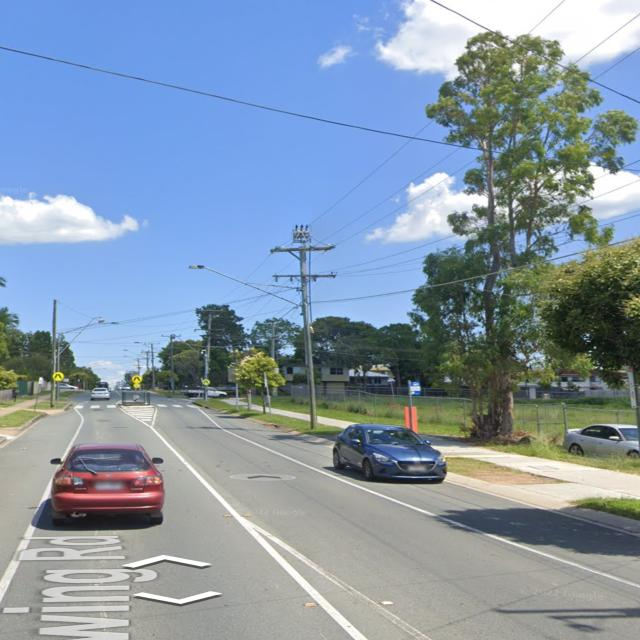HV-switch: (292, 224, 311, 244)
HV-transmission: (270, 244, 336, 254), (161, 333, 181, 337), (143, 342, 160, 345)
crossarm: (270, 246, 336, 253), (272, 274, 336, 278), (194, 328, 224, 332), (197, 310, 224, 312), (161, 335, 180, 337), (162, 347, 180, 349), (140, 352, 156, 354), (144, 343, 159, 345), (134, 365, 144, 366)
streetlight: (190, 264, 304, 308), (54, 316, 106, 358), (171, 334, 207, 359), (59, 322, 119, 336), (134, 341, 172, 357), (123, 349, 152, 361), (124, 355, 148, 365)
timber-pole: (299, 246, 318, 430), (204, 309, 214, 401), (50, 300, 56, 408), (57, 334, 61, 401), (170, 335, 174, 394), (151, 344, 155, 392), (137, 357, 140, 376), (146, 352, 148, 371)
